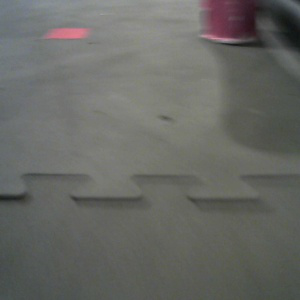Right: (198, 1, 264, 45)
